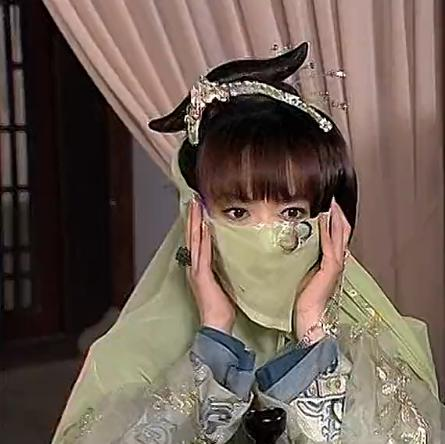OK: (210, 189, 326, 305)
